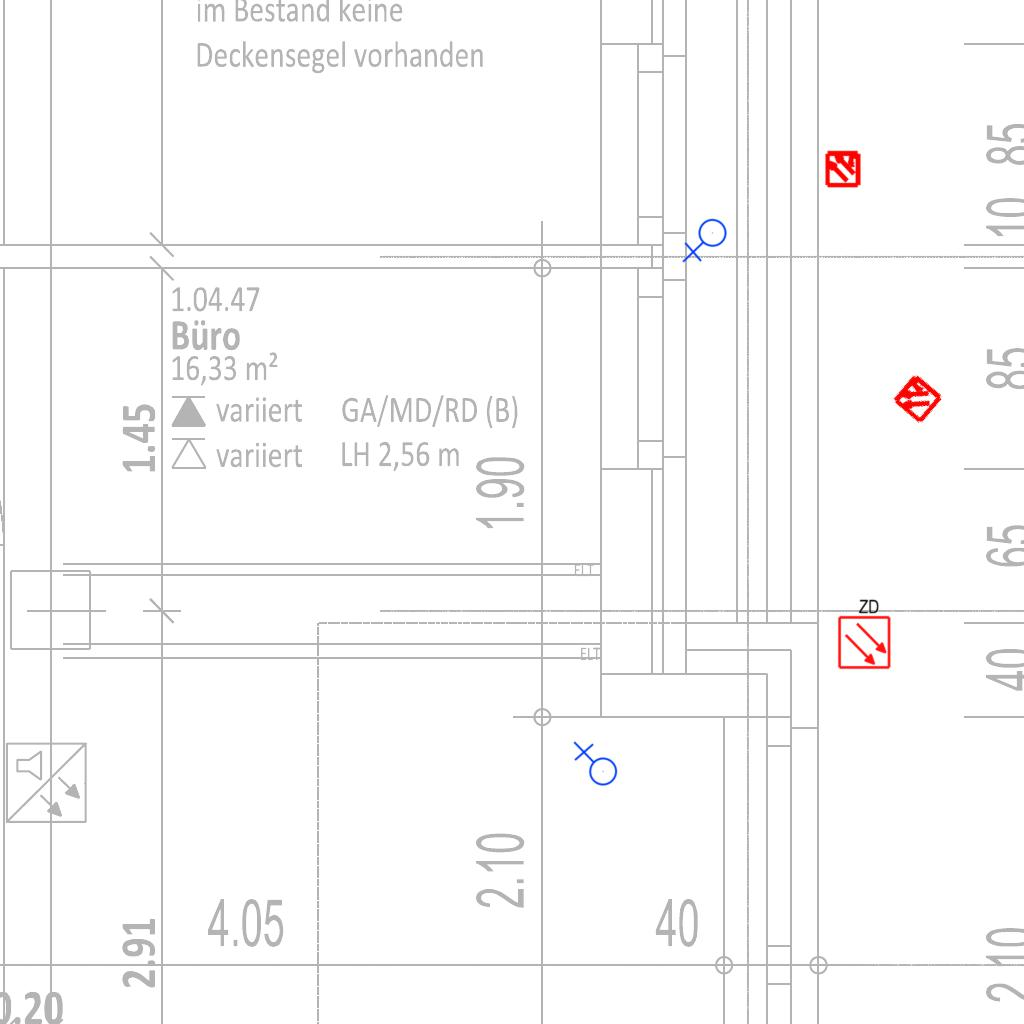Elektroanschluss_allgemein_230V_Geraeteanschlussdose_230V: (682, 218, 731, 265), (571, 741, 618, 790)
OT_Multisensormelder_(Kombination_RMO_WMD): (877, 358, 957, 438), (815, 140, 871, 196)
ZD_Melder_in_Zwischendecke_mit_Revisionsoeffnung_mind_40_x_40_cm: (835, 596, 892, 670)
